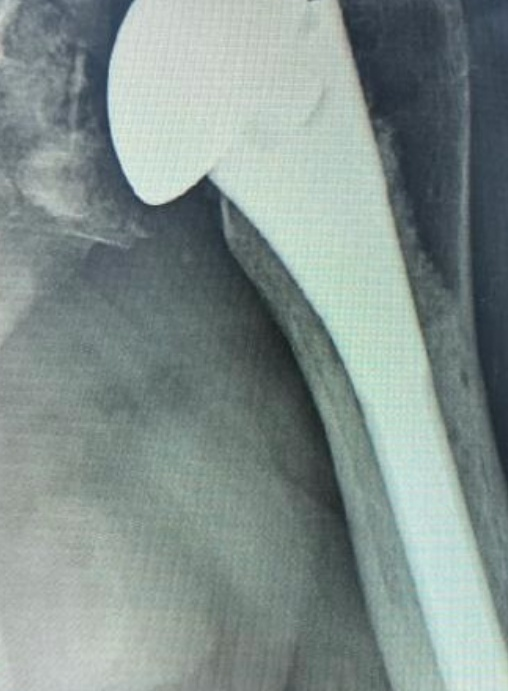Shoulder - Anotomical - Stryker: (102, 1, 406, 213)
